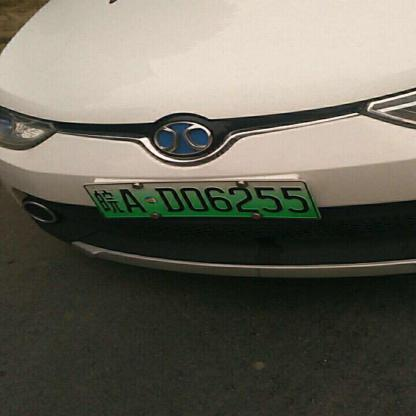lp: (85, 181, 318, 217)
